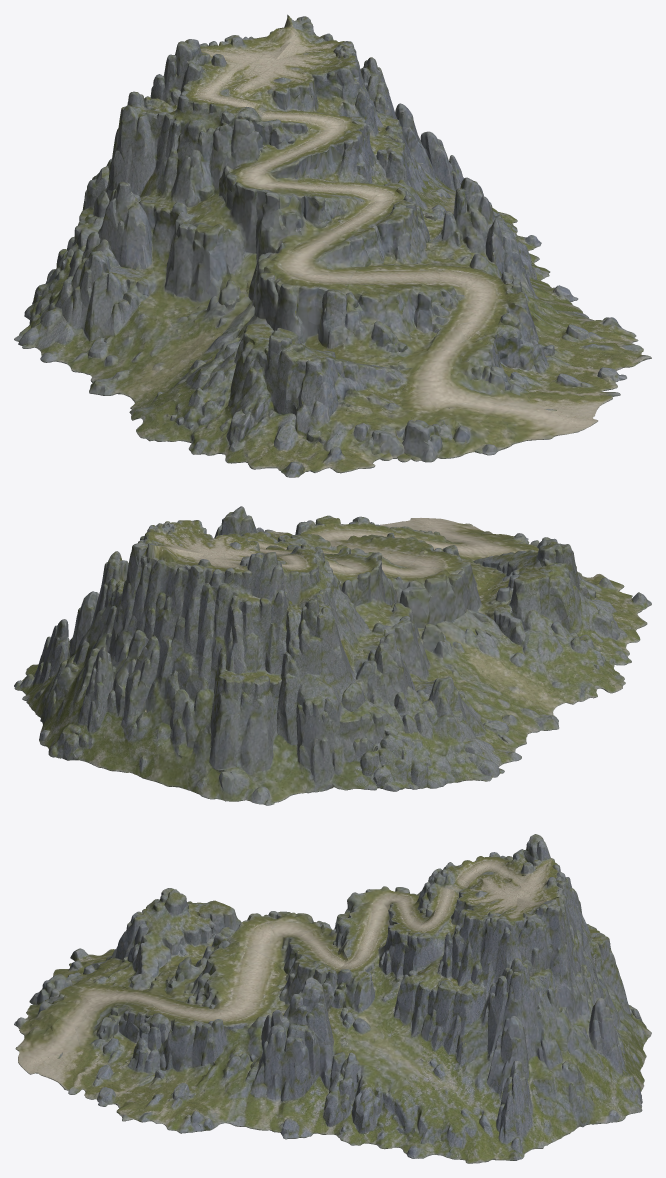
Rendered from mountain-body.glb.
3 renders of one model, top to bottom at view 1: azimuth 30°, elevation 25°; view 2: azimuth 150°, elevation 25°; view 3: azimuth 270°, elevation 25°, orthographic. The views are drawn at different scales.
Parts seen in each view (by area): view 1: Mesh_0; view 2: Mesh_0; view 3: Mesh_0.
Part boxes in pixels (x1,y1,x2,y2): Mesh_0: (14, 14, 651, 477); Mesh_0: (14, 506, 651, 805); Mesh_0: (14, 834, 651, 1163).
Size of the model in its own units: 342 by 144 by 417.
1 material, 1 textured.
